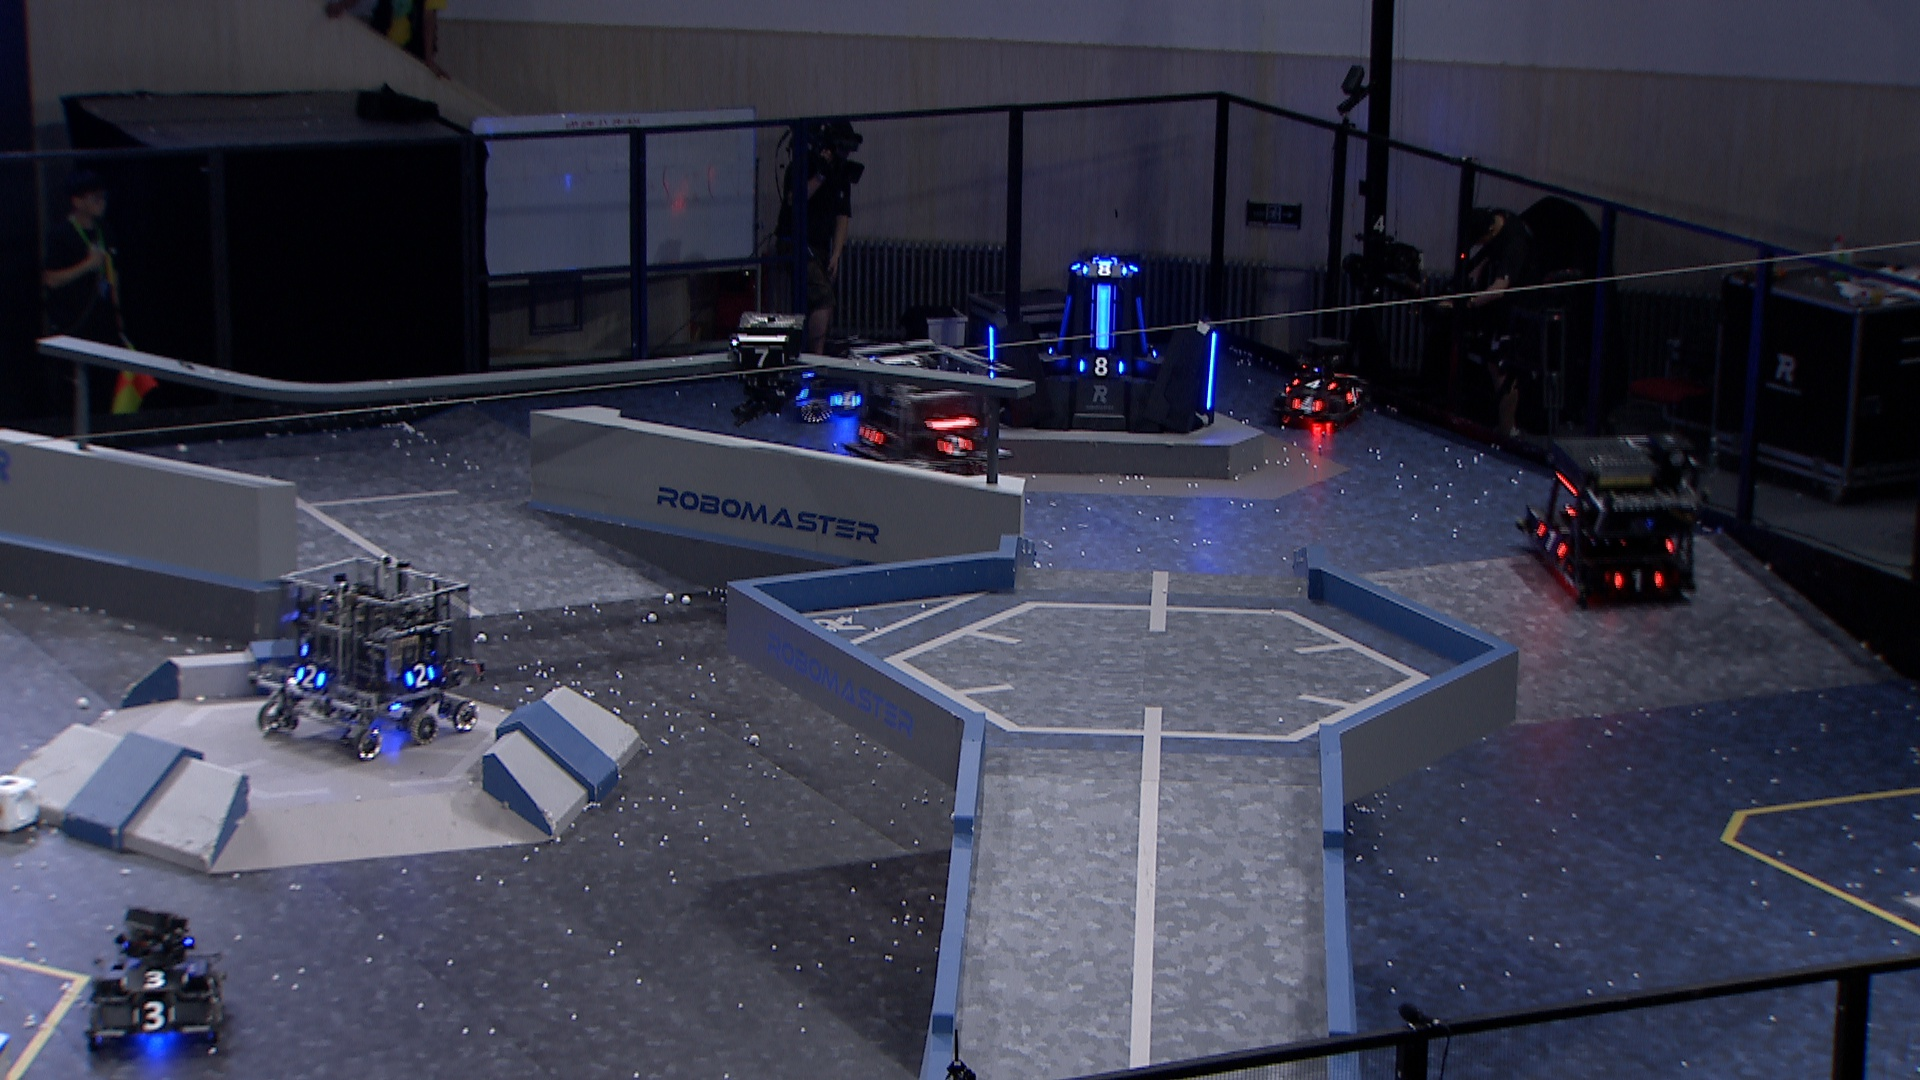armor: (119, 965, 190, 992), (1091, 284, 1116, 349), (129, 1002, 179, 1035), (1203, 328, 1221, 413), (1611, 566, 1665, 593), (1536, 520, 1569, 560), (1073, 353, 1129, 377), (1055, 291, 1076, 353), (1131, 295, 1153, 356), (935, 429, 975, 460), (736, 348, 790, 371), (401, 659, 439, 690), (1288, 373, 1338, 394), (291, 662, 324, 692), (1287, 396, 1328, 419), (1079, 258, 1130, 276), (855, 419, 884, 450), (825, 390, 864, 411), (986, 322, 998, 378), (1342, 385, 1364, 407)
base: (982, 252, 1225, 436)
car: (251, 547, 487, 761), (1514, 431, 1700, 612), (839, 334, 1017, 495), (76, 909, 225, 1055), (782, 332, 891, 429), (1271, 334, 1371, 433)
watcher: (724, 310, 808, 429)
